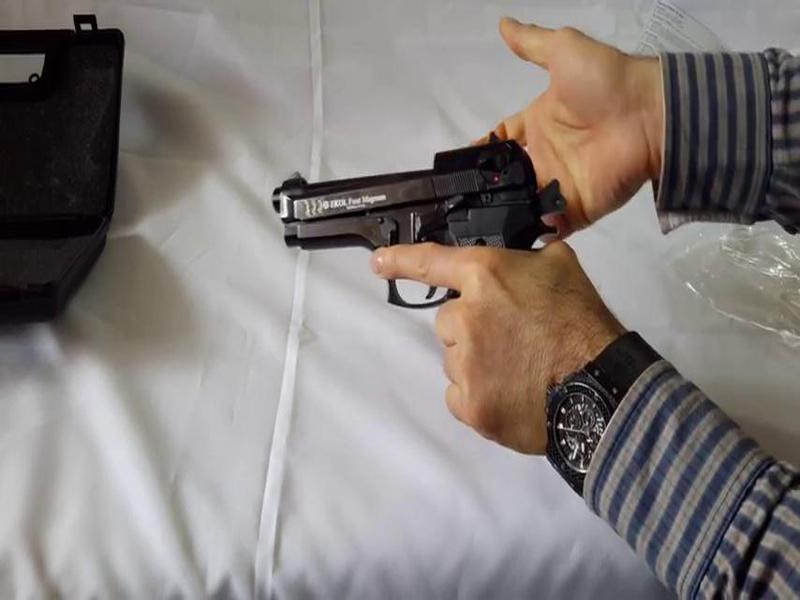Pistola: (242, 127, 547, 321)
